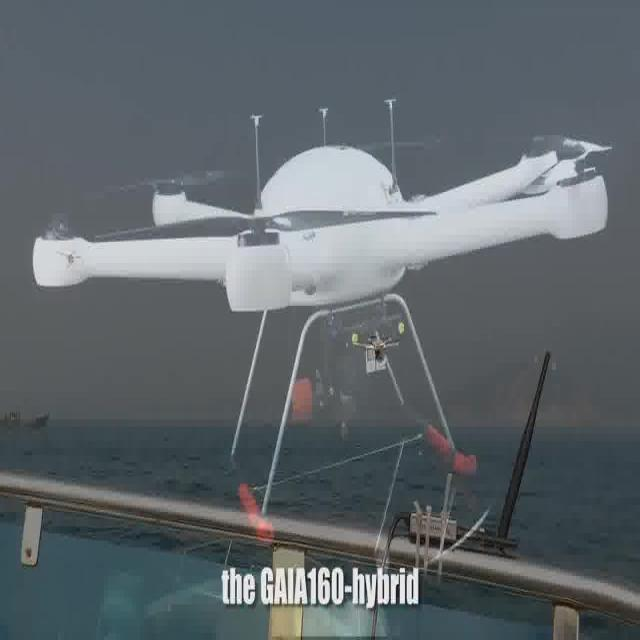drones: (22, 78, 614, 546)
